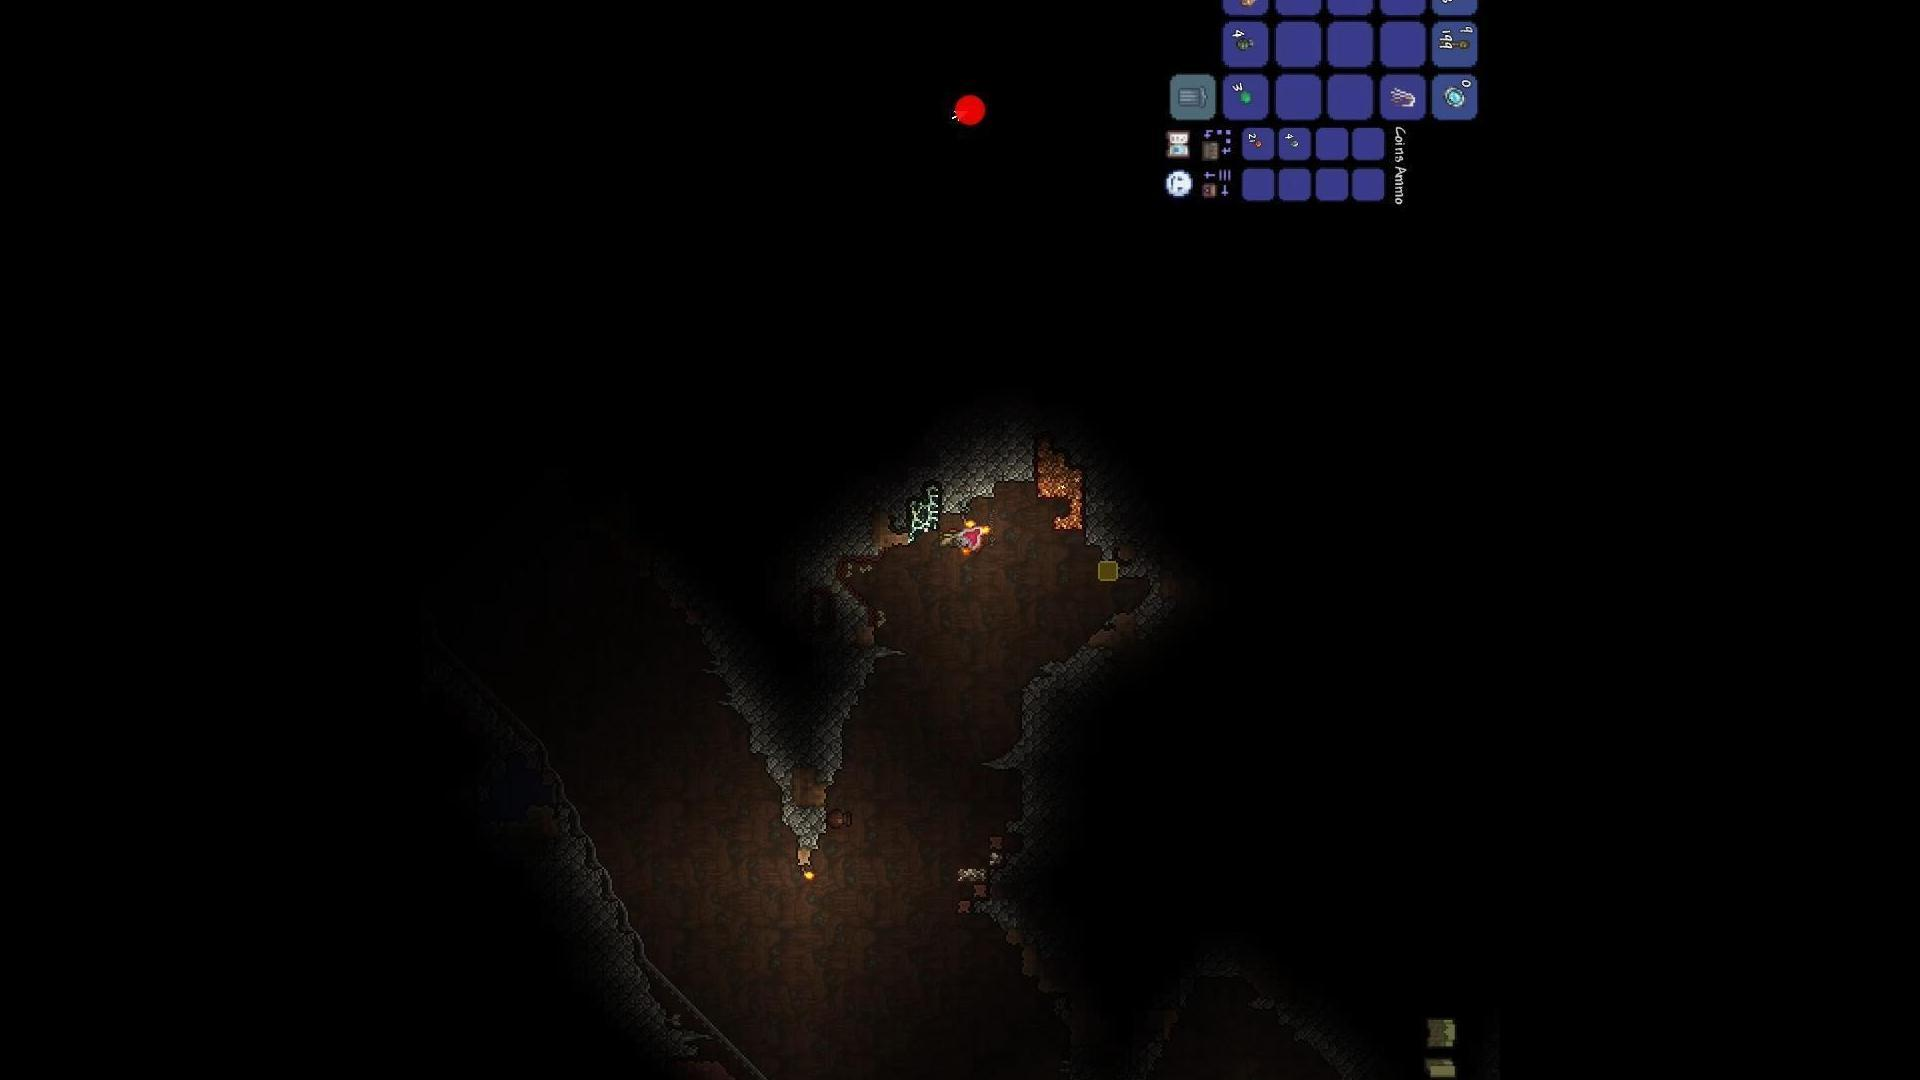pot: (810, 796, 853, 836)
